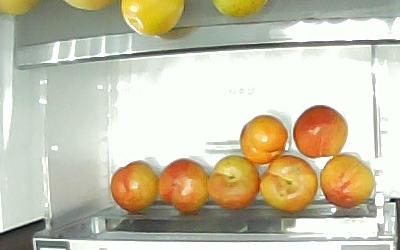prune: (258, 153, 318, 212), (319, 152, 375, 208), (291, 103, 348, 158), (206, 153, 260, 209), (156, 157, 209, 213), (109, 159, 160, 212), (238, 114, 288, 164)
